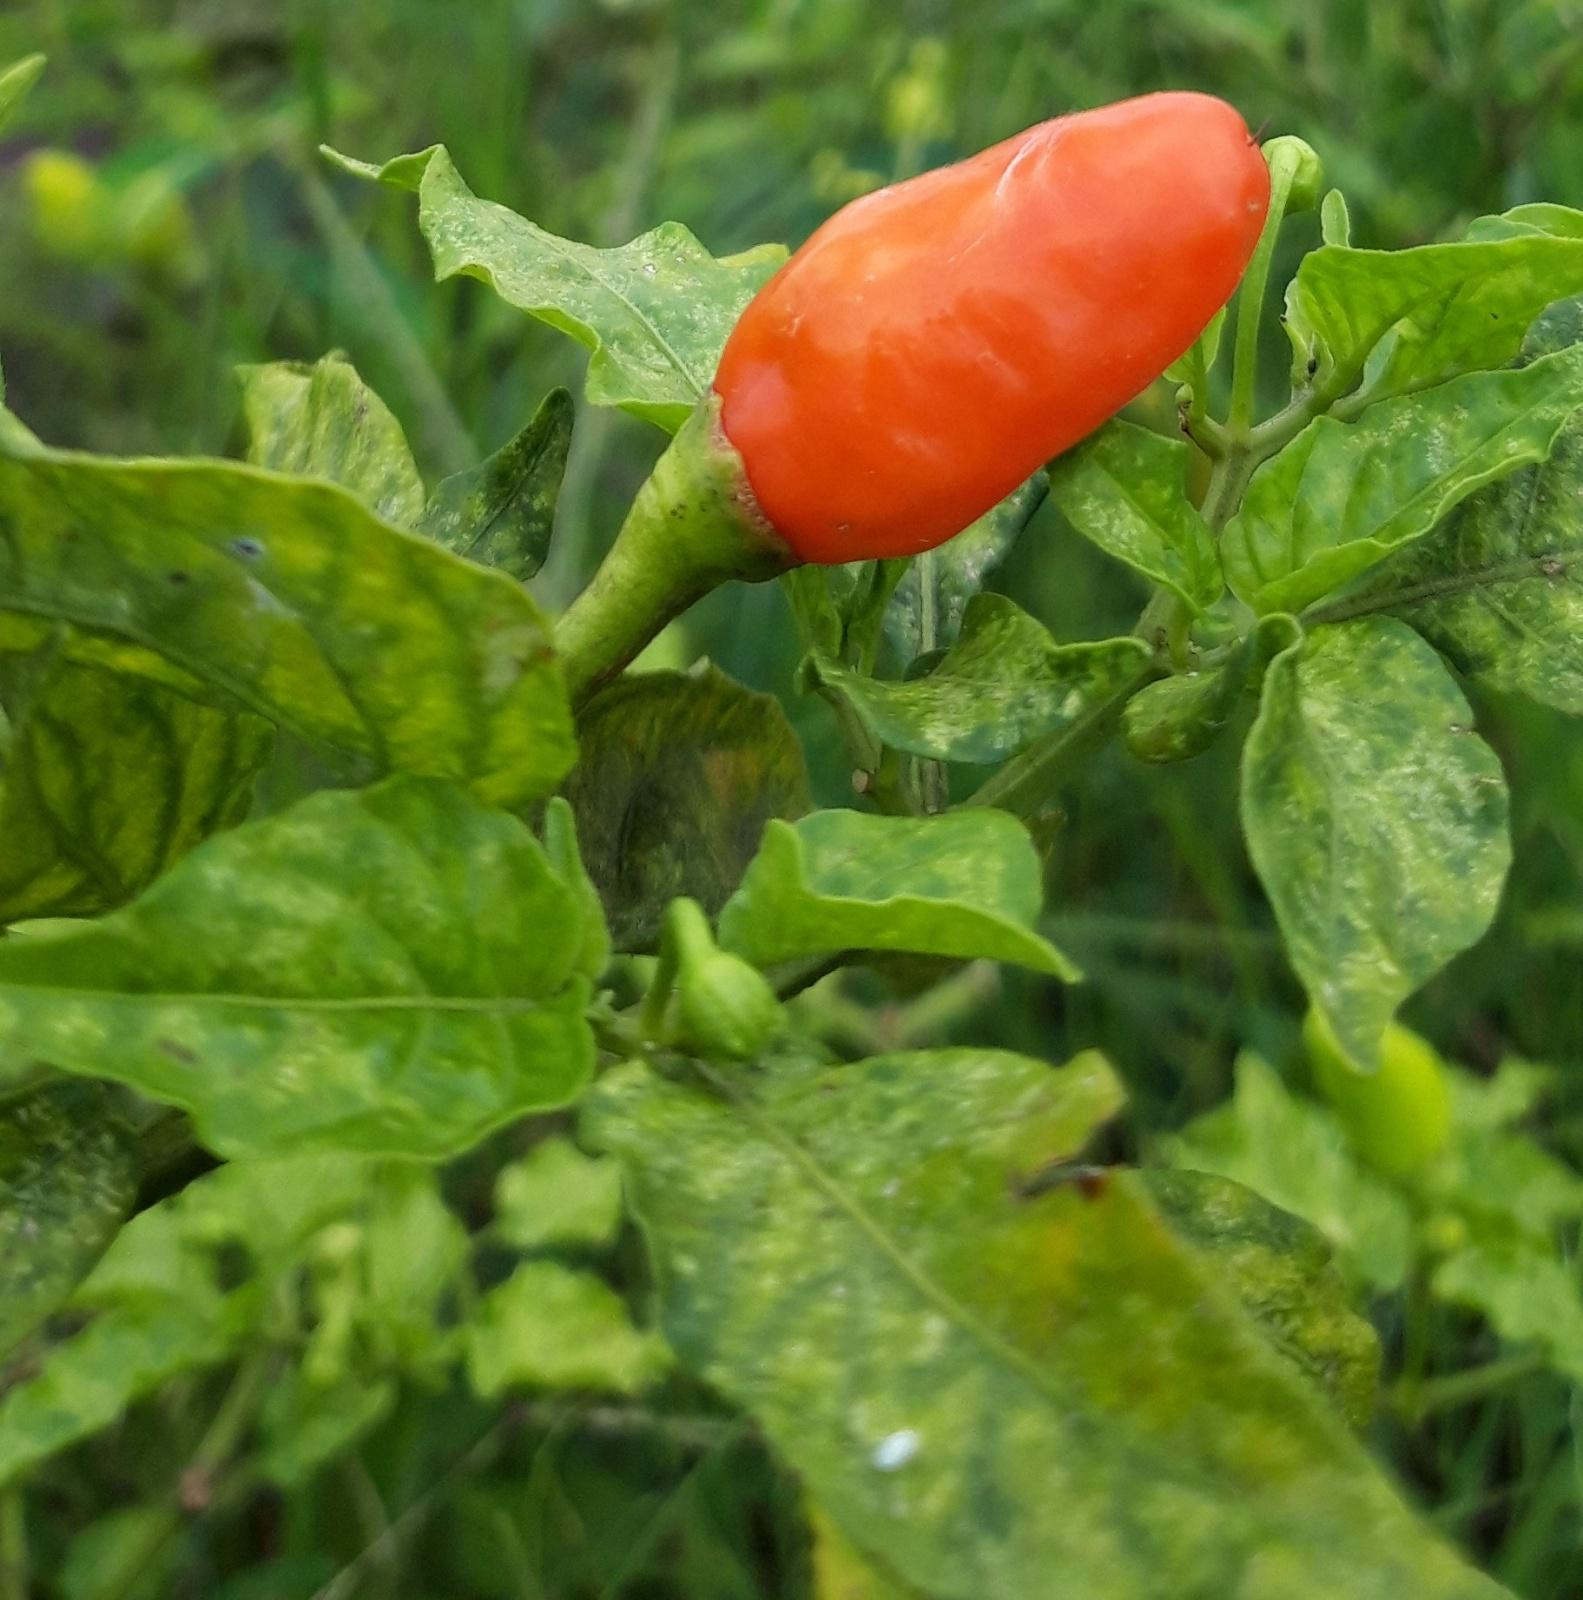cabai_normal: (709, 87, 1274, 571)
